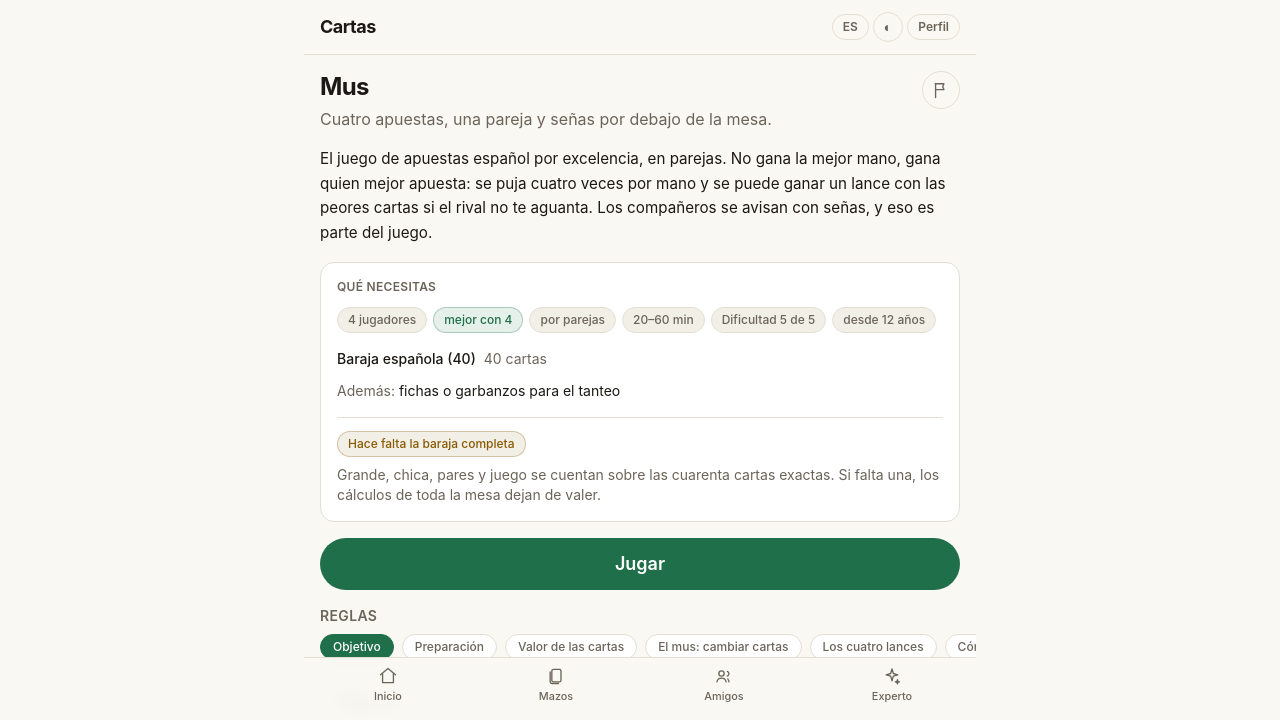
Test: reportar un juego › se cierra sin enviar nada
Click the button named "Reportar este juego" at point(941, 90), box [922,71,960,109]
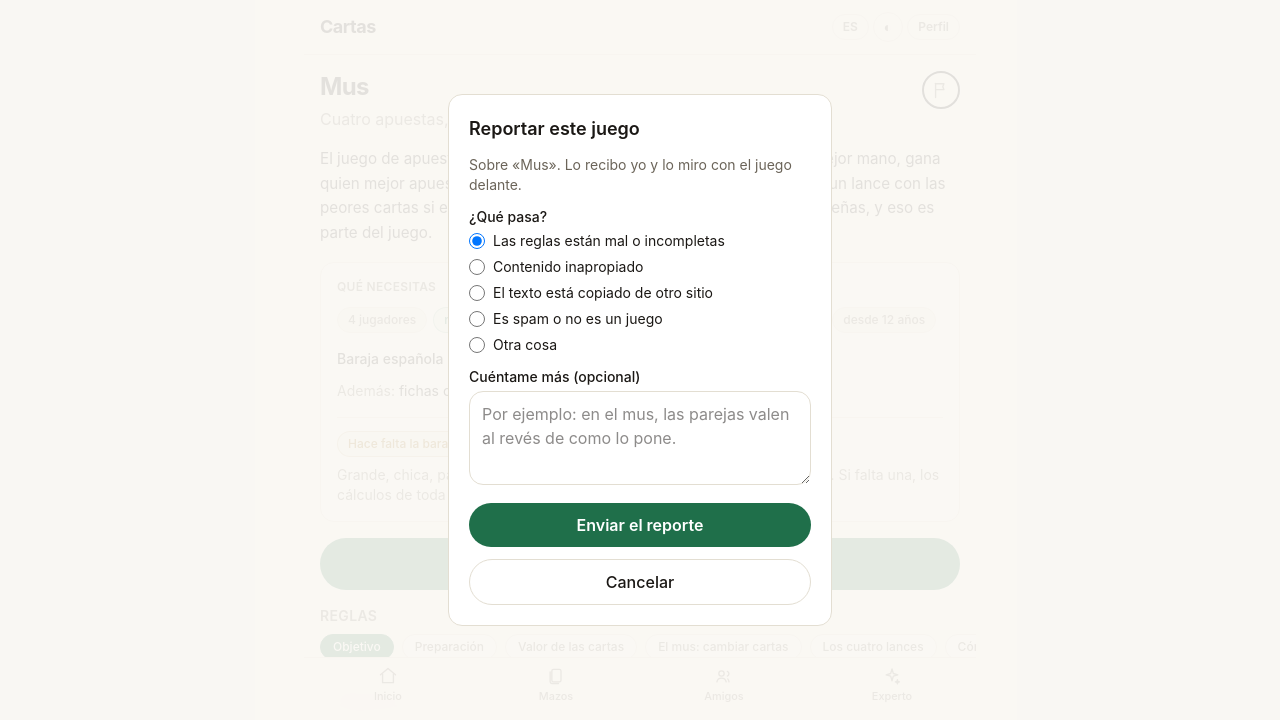
Click the button "Cancelar" at point(640, 582), box [469,559,811,605]
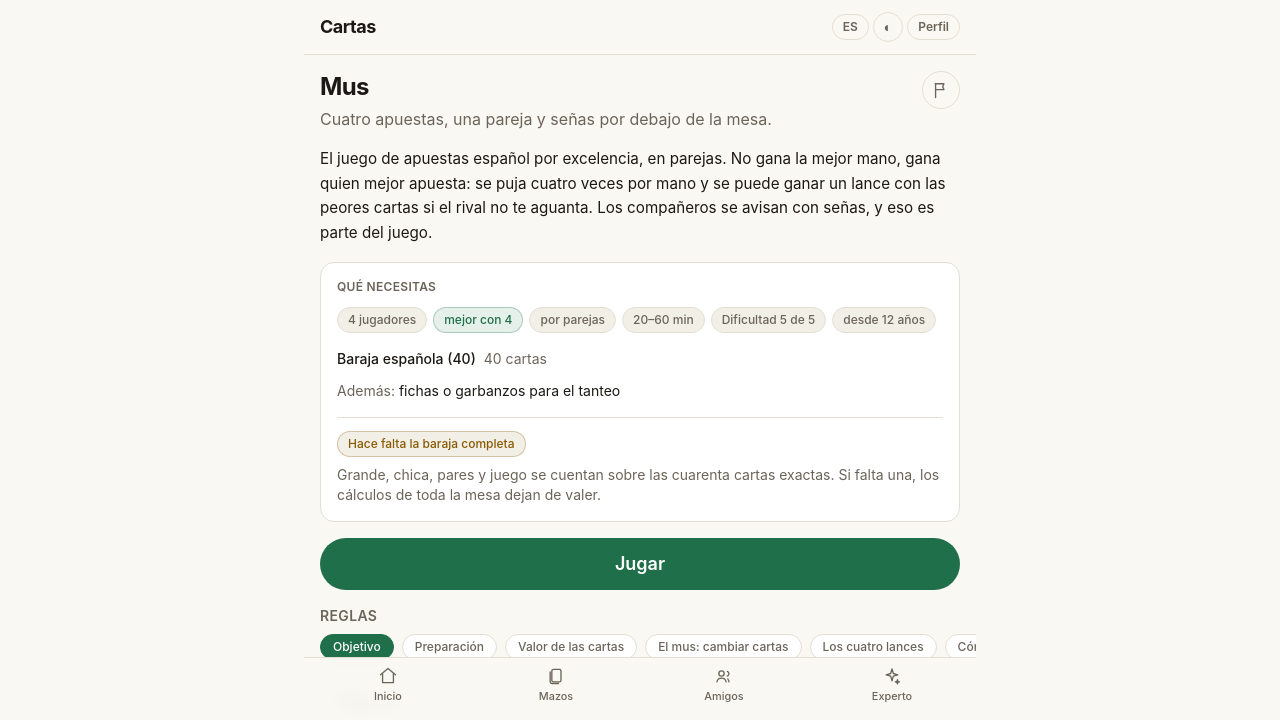
Expected: the dialog is gone
